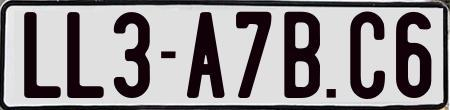3: (112, 12, 152, 103)
6: (394, 9, 429, 98)
7: (236, 11, 271, 102)
A: (186, 10, 227, 99)
B: (281, 10, 317, 99)
C: (350, 8, 387, 97)
L: (24, 10, 64, 99), (66, 12, 104, 103)
